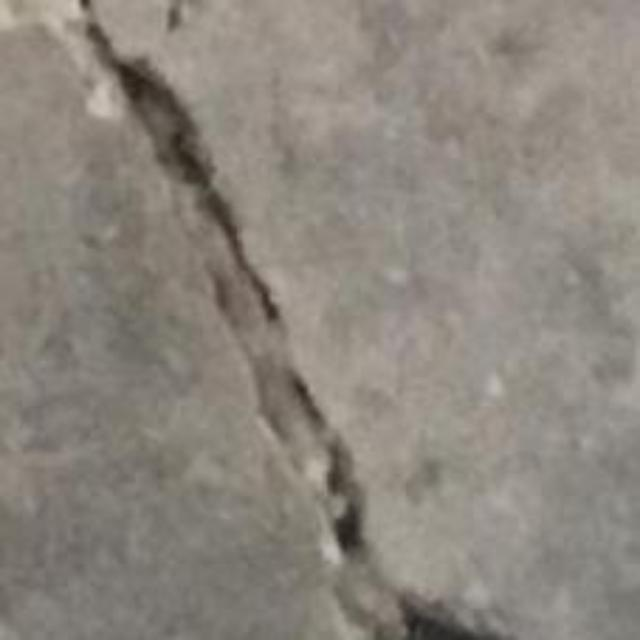crack: (79, 0, 504, 639)
